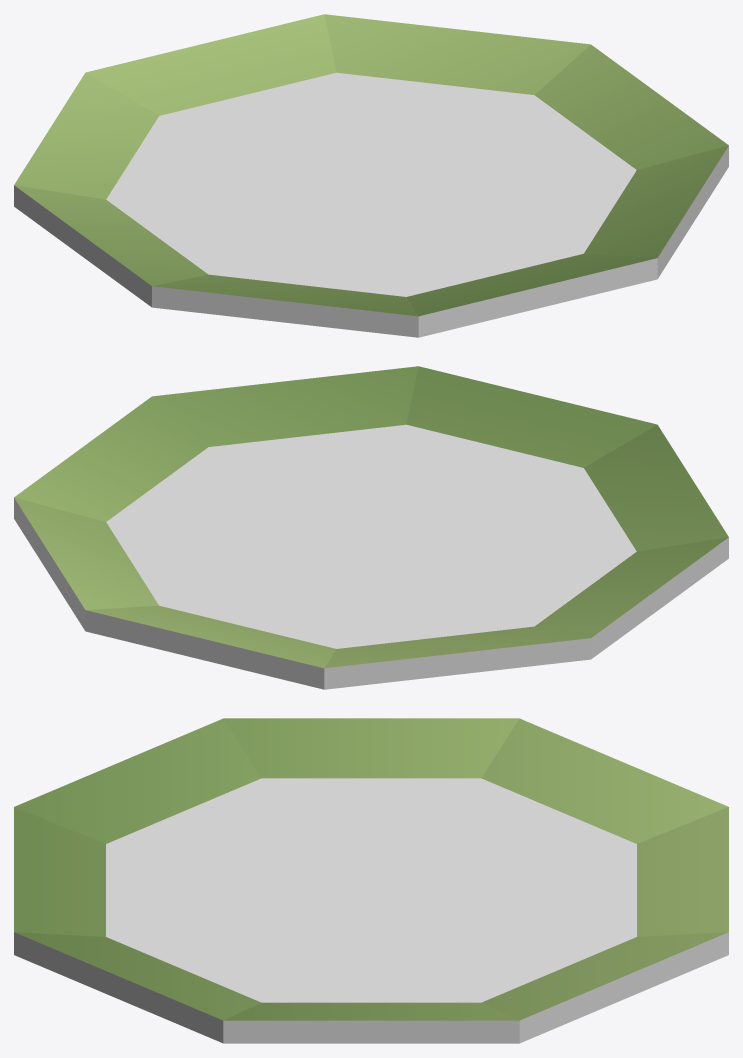
File: Plate2_C4.fbx
3 views of the same model, one above another, from view 1: azimuth 30°, elevation 25°; view 2: azimuth 150°, elevation 25°; view 3: azimuth 270°, elevation 25° (orthographic). The views are drawn at different scales.
Visible parts, largest first — view 1: Plate2_C4; view 2: Plate2_C4; view 3: Plate2_C4.
Boxes of the visible parts, x1=… form: Plate2_C4: x1=14, y1=14, x2=728, y2=337; Plate2_C4: x1=14, y1=366, x2=728, y2=689; Plate2_C4: x1=14, y1=718, x2=728, y2=1043.
Size of the model in its own units: 21.53 by 1.46 by 21.53.
